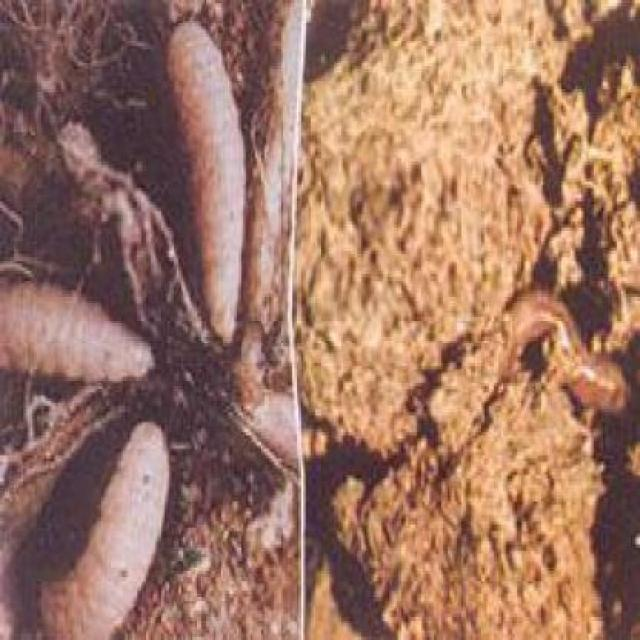whorl-maggot: (29, 411, 174, 638), (161, 10, 254, 351), (2, 276, 160, 383)
